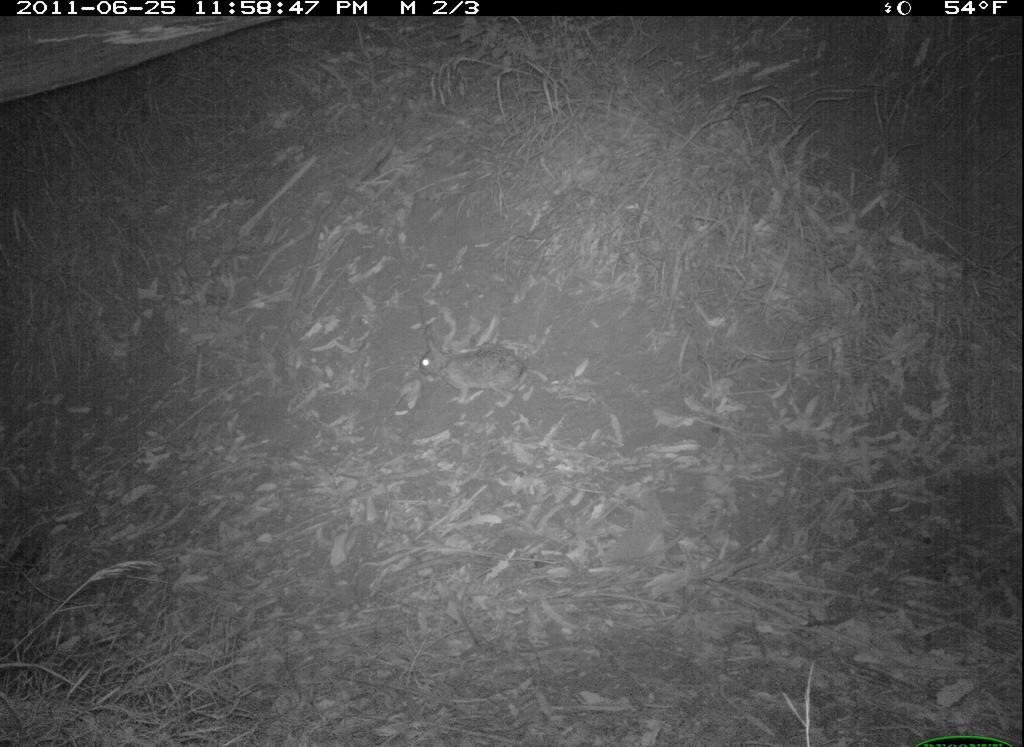rabbit: (413, 312, 529, 423)
